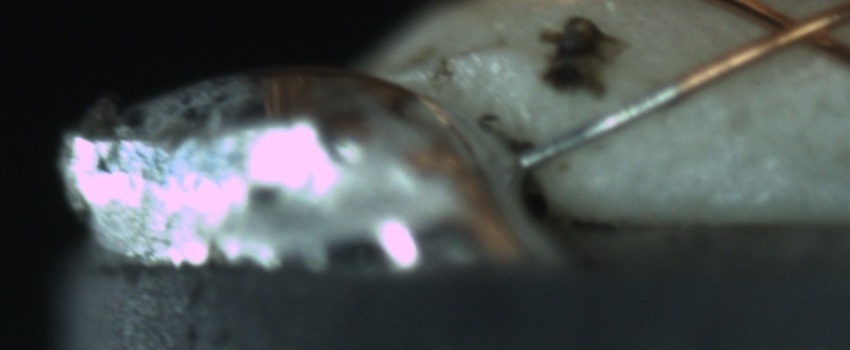CL: (744, 0, 845, 61)
TS: (517, 81, 678, 174)
